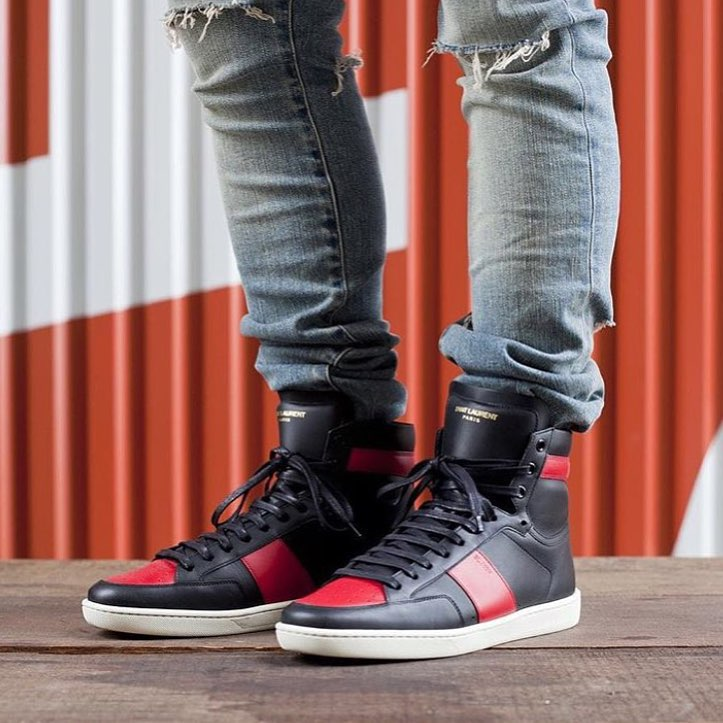sneaker: (263, 352, 600, 671), (71, 367, 431, 655)
